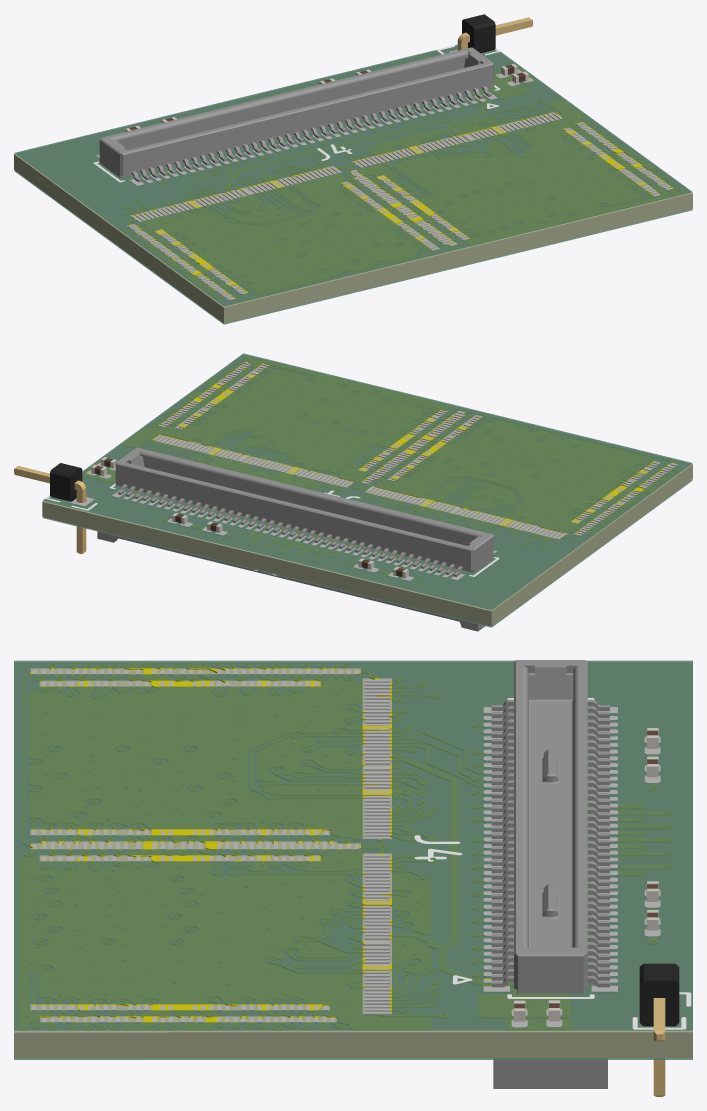
Rendered from asic-top-v3-0p8mm.glb.
3 views of the same model, one above another, from view 1: azimuth 30°, elevation 25°; view 2: azimuth 150°, elevation 25°; view 3: azimuth 270°, elevation 25° (orthographic). The views are drawn at different scales.
Visible parts, largest first — view 1: =>[0:1:1:15], =>[0:1:1:10], =>[0:1:1:17], =>[0:1:1:3], =>[0:1:1:11], =>[0:1:1:7], =>[0:1:1:16]; view 2: =>[0:1:1:15], =>[0:1:1:10], =>[0:1:1:17], =>[0:1:1:3], =>[0:1:1:11], =>[0:1:1:7], =>[0:1:1:9], =>[0:1:1:16]; view 3: =>[0:1:1:15], =>[0:1:1:10], =>[0:1:1:17], =>[0:1:1:3], =>[0:1:1:11], =>[0:1:1:9], =>[0:1:1:7], =>[0:1:1:12], =>[0:1:1:16], =>[0:1:1:13].
Boxes of the visible parts, x1,y1,x2,y2 form: =>[0:1:1:15]: (14, 44, 692, 306); =>[0:1:1:10]: (124, 68, 687, 300); =>[0:1:1:17]: (14, 46, 692, 323); =>[0:1:1:3]: (99, 47, 494, 182); =>[0:1:1:11]: (96, 50, 671, 300); =>[0:1:1:7]: (457, 14, 532, 53); =>[0:1:1:16]: (14, 171, 692, 324); =>[0:1:1:15]: (42, 353, 692, 610); =>[0:1:1:10]: (83, 356, 679, 582); =>[0:1:1:17]: (42, 355, 692, 626); =>[0:1:1:3]: (115, 447, 493, 576); =>[0:1:1:11]: (68, 362, 676, 580); =>[0:1:1:7]: (14, 463, 86, 554); =>[0:1:1:9]: (97, 531, 485, 631); =>[0:1:1:16]: (43, 480, 692, 627); =>[0:1:1:15]: (14, 660, 692, 1030); =>[0:1:1:10]: (18, 663, 670, 1029); =>[0:1:1:17]: (14, 663, 692, 1058); =>[0:1:1:3]: (491, 660, 609, 993); =>[0:1:1:11]: (32, 669, 660, 1027); =>[0:1:1:9]: (493, 1058, 607, 1088); =>[0:1:1:7]: (639, 963, 679, 1096); =>[0:1:1:12]: (23, 664, 668, 1027); =>[0:1:1:16]: (14, 1058, 692, 1059); =>[0:1:1:13]: (414, 698, 691, 1029).
Bounding box in the file's own units: 0.0238 × 0.00377 × 0.017.
